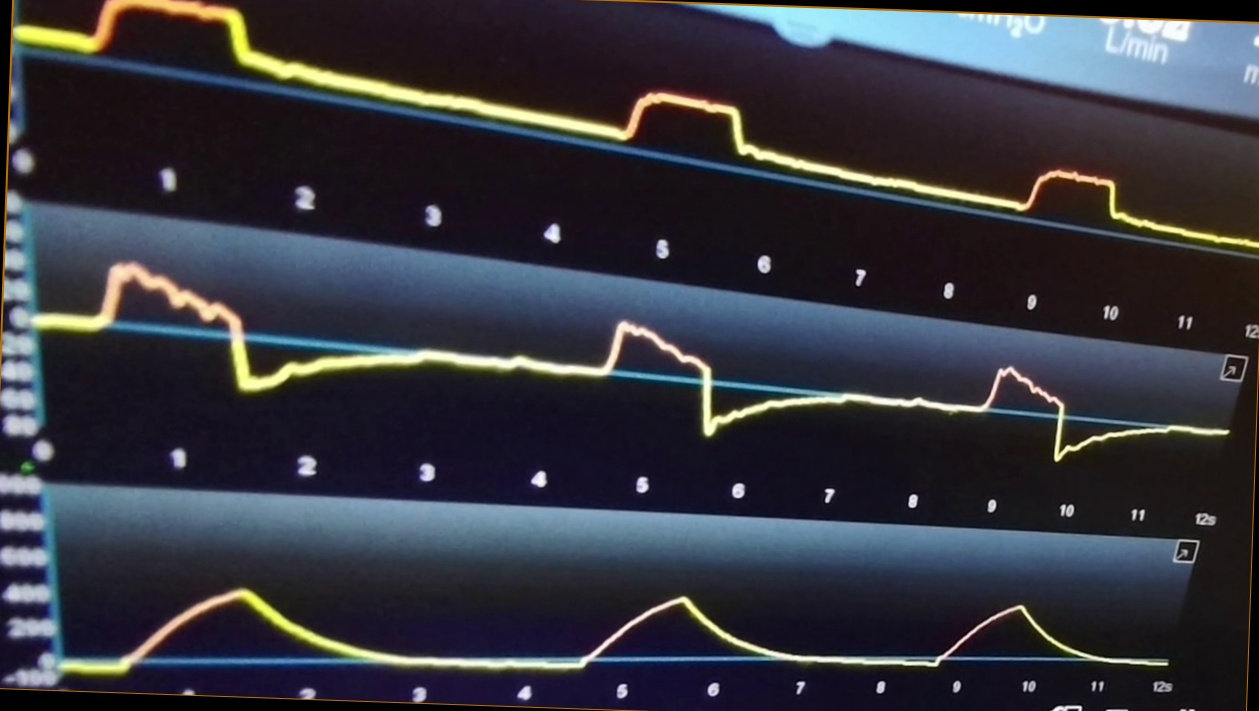Accumulation Flow: (49, 258, 1229, 464)
Volume: (62, 565, 1166, 679)
